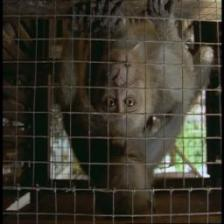monkey: (90, 45, 151, 131), (102, 138, 148, 202)
